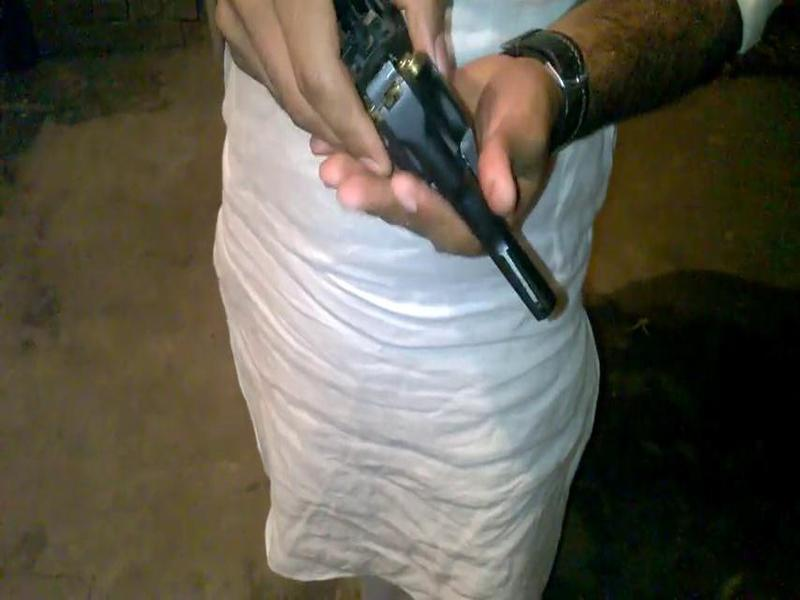Revolver: (224, 1, 590, 343)
